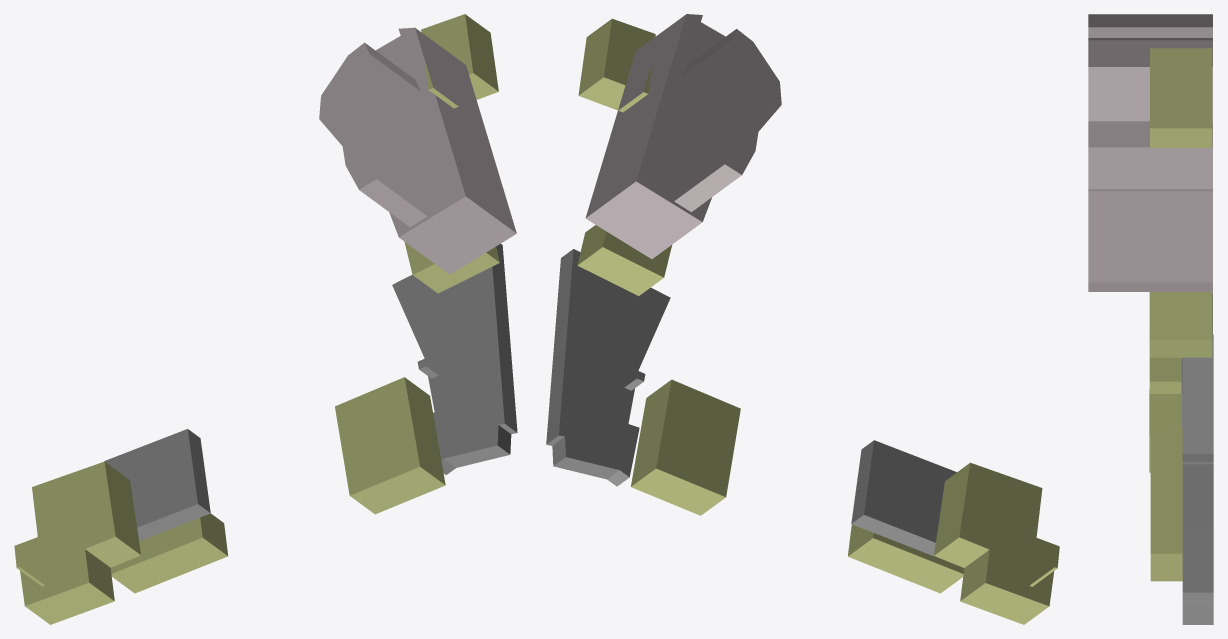
3 renders of one model, left to right at view 1: azimuth 30°, elevation 25°; view 2: azimuth 150°, elevation 25°; view 3: azimuth 270°, elevation 25°, orthographic. The views are drawn at different scales.
Visible parts, largest first — view 1: 0_1_1_3_3_1_3_1; view 2: 0_1_1_3_3_1_3_1; view 3: 0_1_1_3_3_1_3_1.
Part boxes in pixels (box(x1,y1,x2,y2)): 0_1_1_3_3_1_3_1: box(14, 14, 517, 624); 0_1_1_3_3_1_3_1: box(546, 14, 1059, 624); 0_1_1_3_3_1_3_1: box(1088, 14, 1213, 624).
Bounding box in the file's own units: 66.57 × 62.95 × 12.07.
